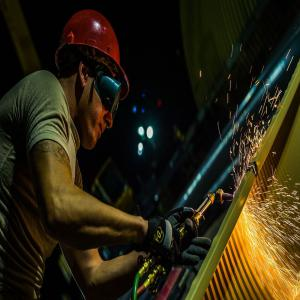red: (55, 11, 127, 151)
